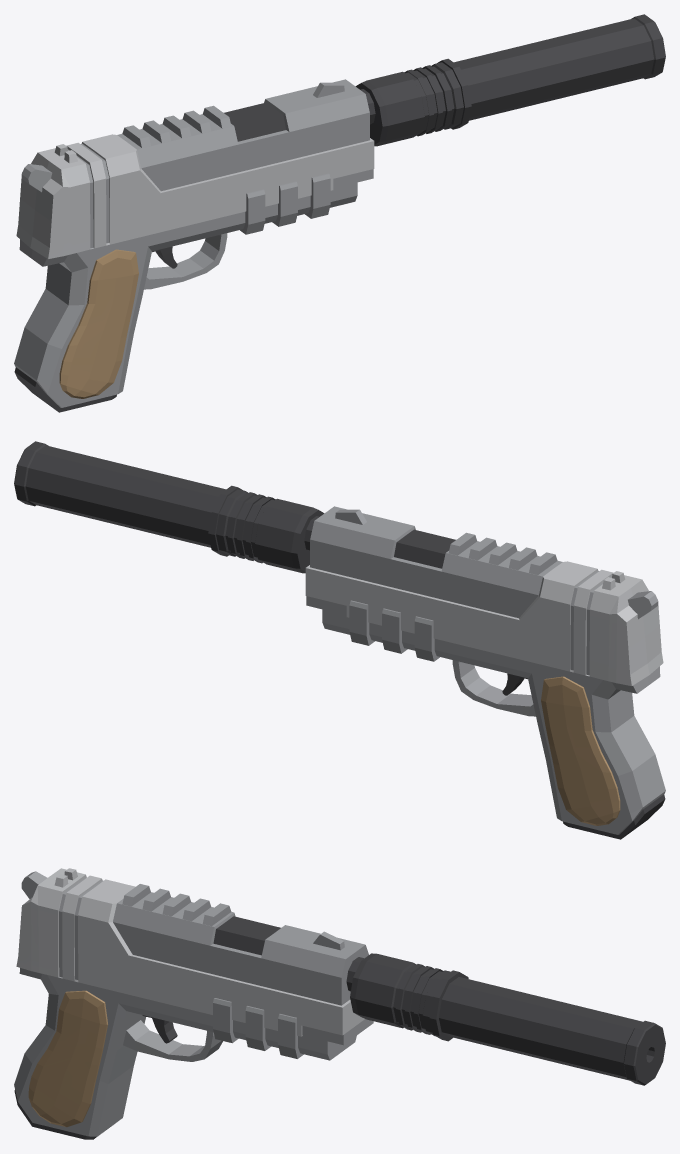
The model's file is gun_sp7.fbx.
The picture shows the model from 3 angles, top to bottom: view 1: azimuth 30°, elevation 25°; view 2: azimuth 150°, elevation 25°; view 3: azimuth 330°, elevation 25°; orthographic projection.
Parts seen in each view (by area): view 1: Pistol_3; view 2: Pistol_3; view 3: Pistol_3.
Boxes of the visible parts, x1,y1,x2,y2 form: Pistol_3: [14, 14, 665, 412]; Pistol_3: [14, 441, 665, 839]; Pistol_3: [14, 868, 665, 1139].
Bounding box in the file's own units: 40.44 × 3.99 × 15.52.
